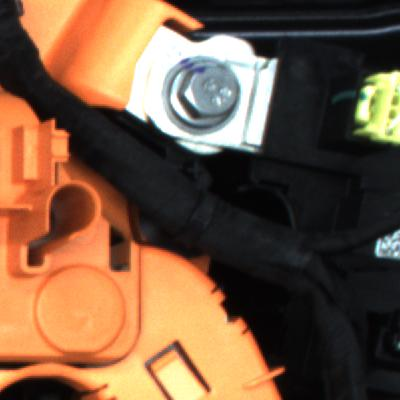nut_b: (171, 62, 272, 143)
